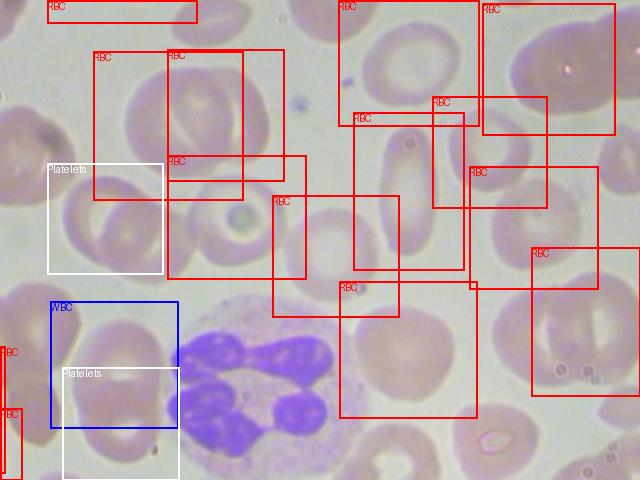Platelets: (62, 367, 179, 480), (47, 163, 163, 274)
RBC: (93, 51, 243, 200), (339, 281, 477, 418), (338, 0, 479, 126), (482, 3, 615, 135), (353, 112, 464, 270), (167, 155, 306, 279), (531, 247, 640, 396), (469, 166, 598, 289), (272, 195, 399, 317), (167, 49, 284, 181), (432, 96, 547, 208), (47, 0, 197, 23), (0, 408, 22, 480), (0, 346, 5, 473)
WBC: (50, 301, 178, 428)
